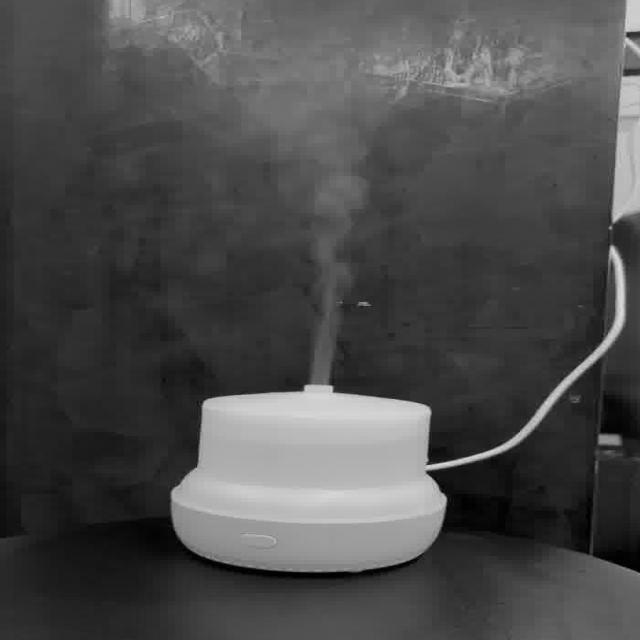fire: (226, 88, 407, 381)
